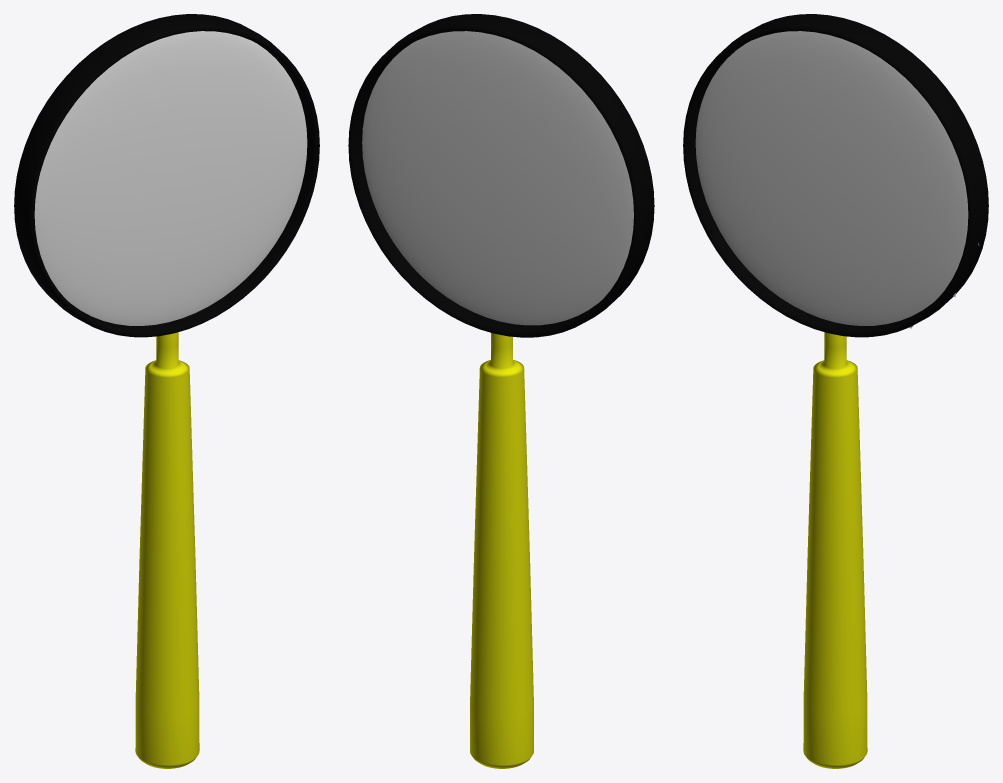
Rendered from PORTAL_MAGNIFYING_GLASS.fbx.
3 renders of one model, left to right at view 1: azimuth 30°, elevation 25°; view 2: azimuth 150°, elevation 25°; view 3: azimuth 330°, elevation 25°, orthographic.
Visible parts, largest first — view 1: magnifying_glass_Mesh; view 2: magnifying_glass_Mesh; view 3: magnifying_glass_Mesh.
Boxes of the visible parts, x1=… form: magnifying_glass_Mesh: x1=14, y1=14, x2=319, y2=768; magnifying_glass_Mesh: x1=348, y1=14, x2=654, y2=768; magnifying_glass_Mesh: x1=683, y1=14, x2=988, y2=768.
Bounding box in the file's own units: 3.61 × 8.65 × 0.6781.
